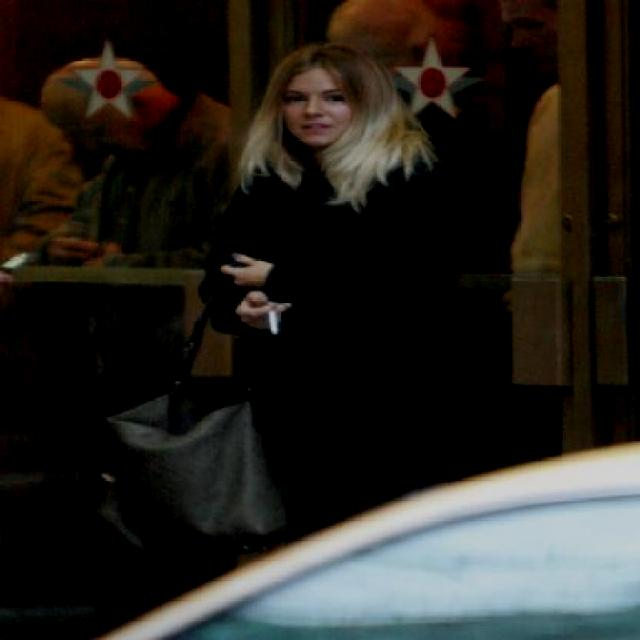smoke: (266, 302, 282, 336)
